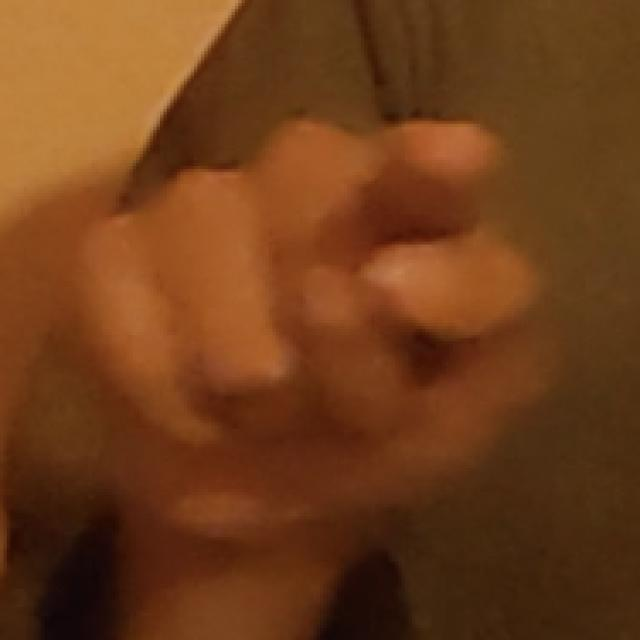Z: (61, 90, 582, 572)
